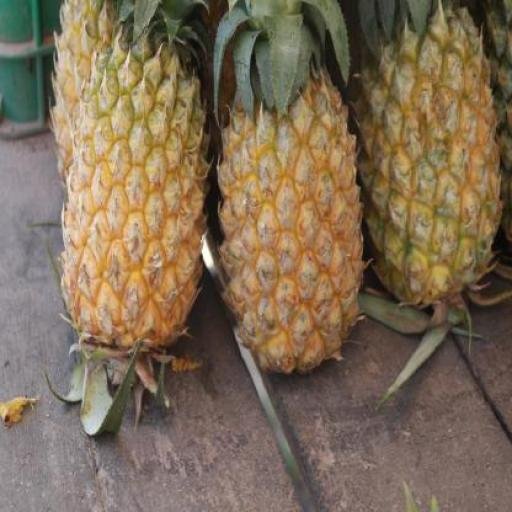------------------------------: (360, 13, 503, 306)
Pineapple - v8 v1: (62, 38, 206, 362), (220, 77, 370, 378)
